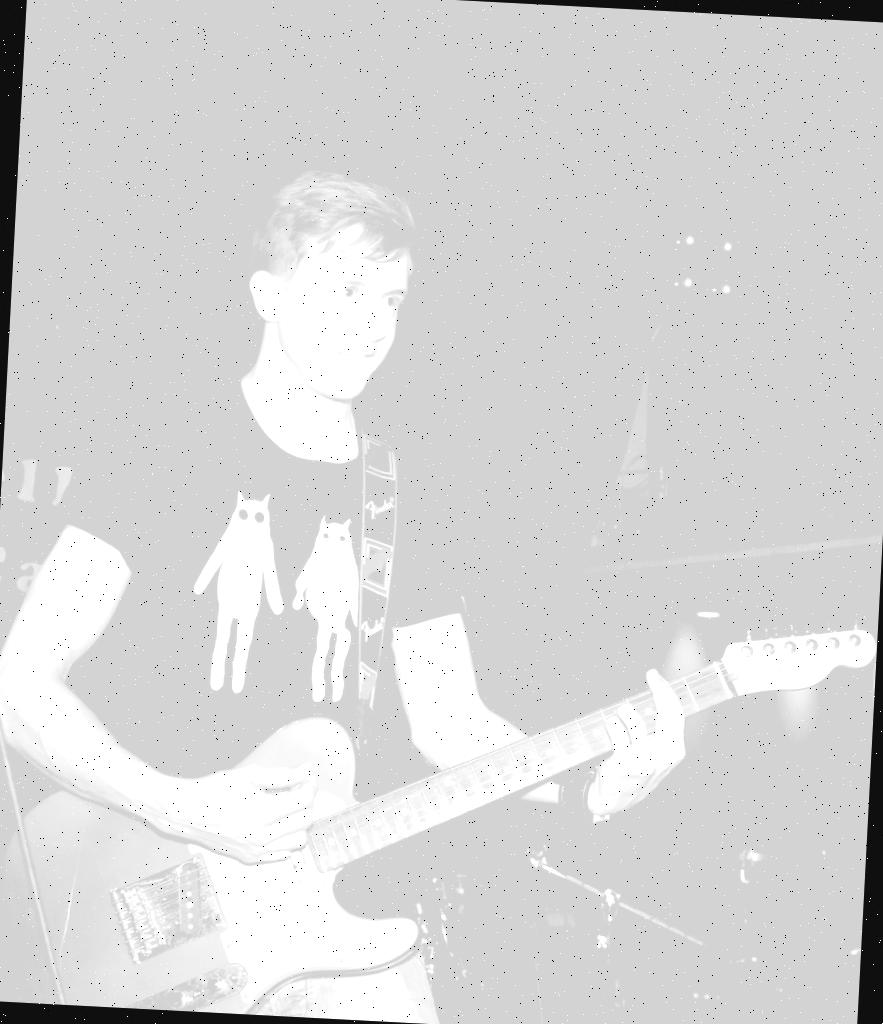Owl: (185, 492, 290, 695)
